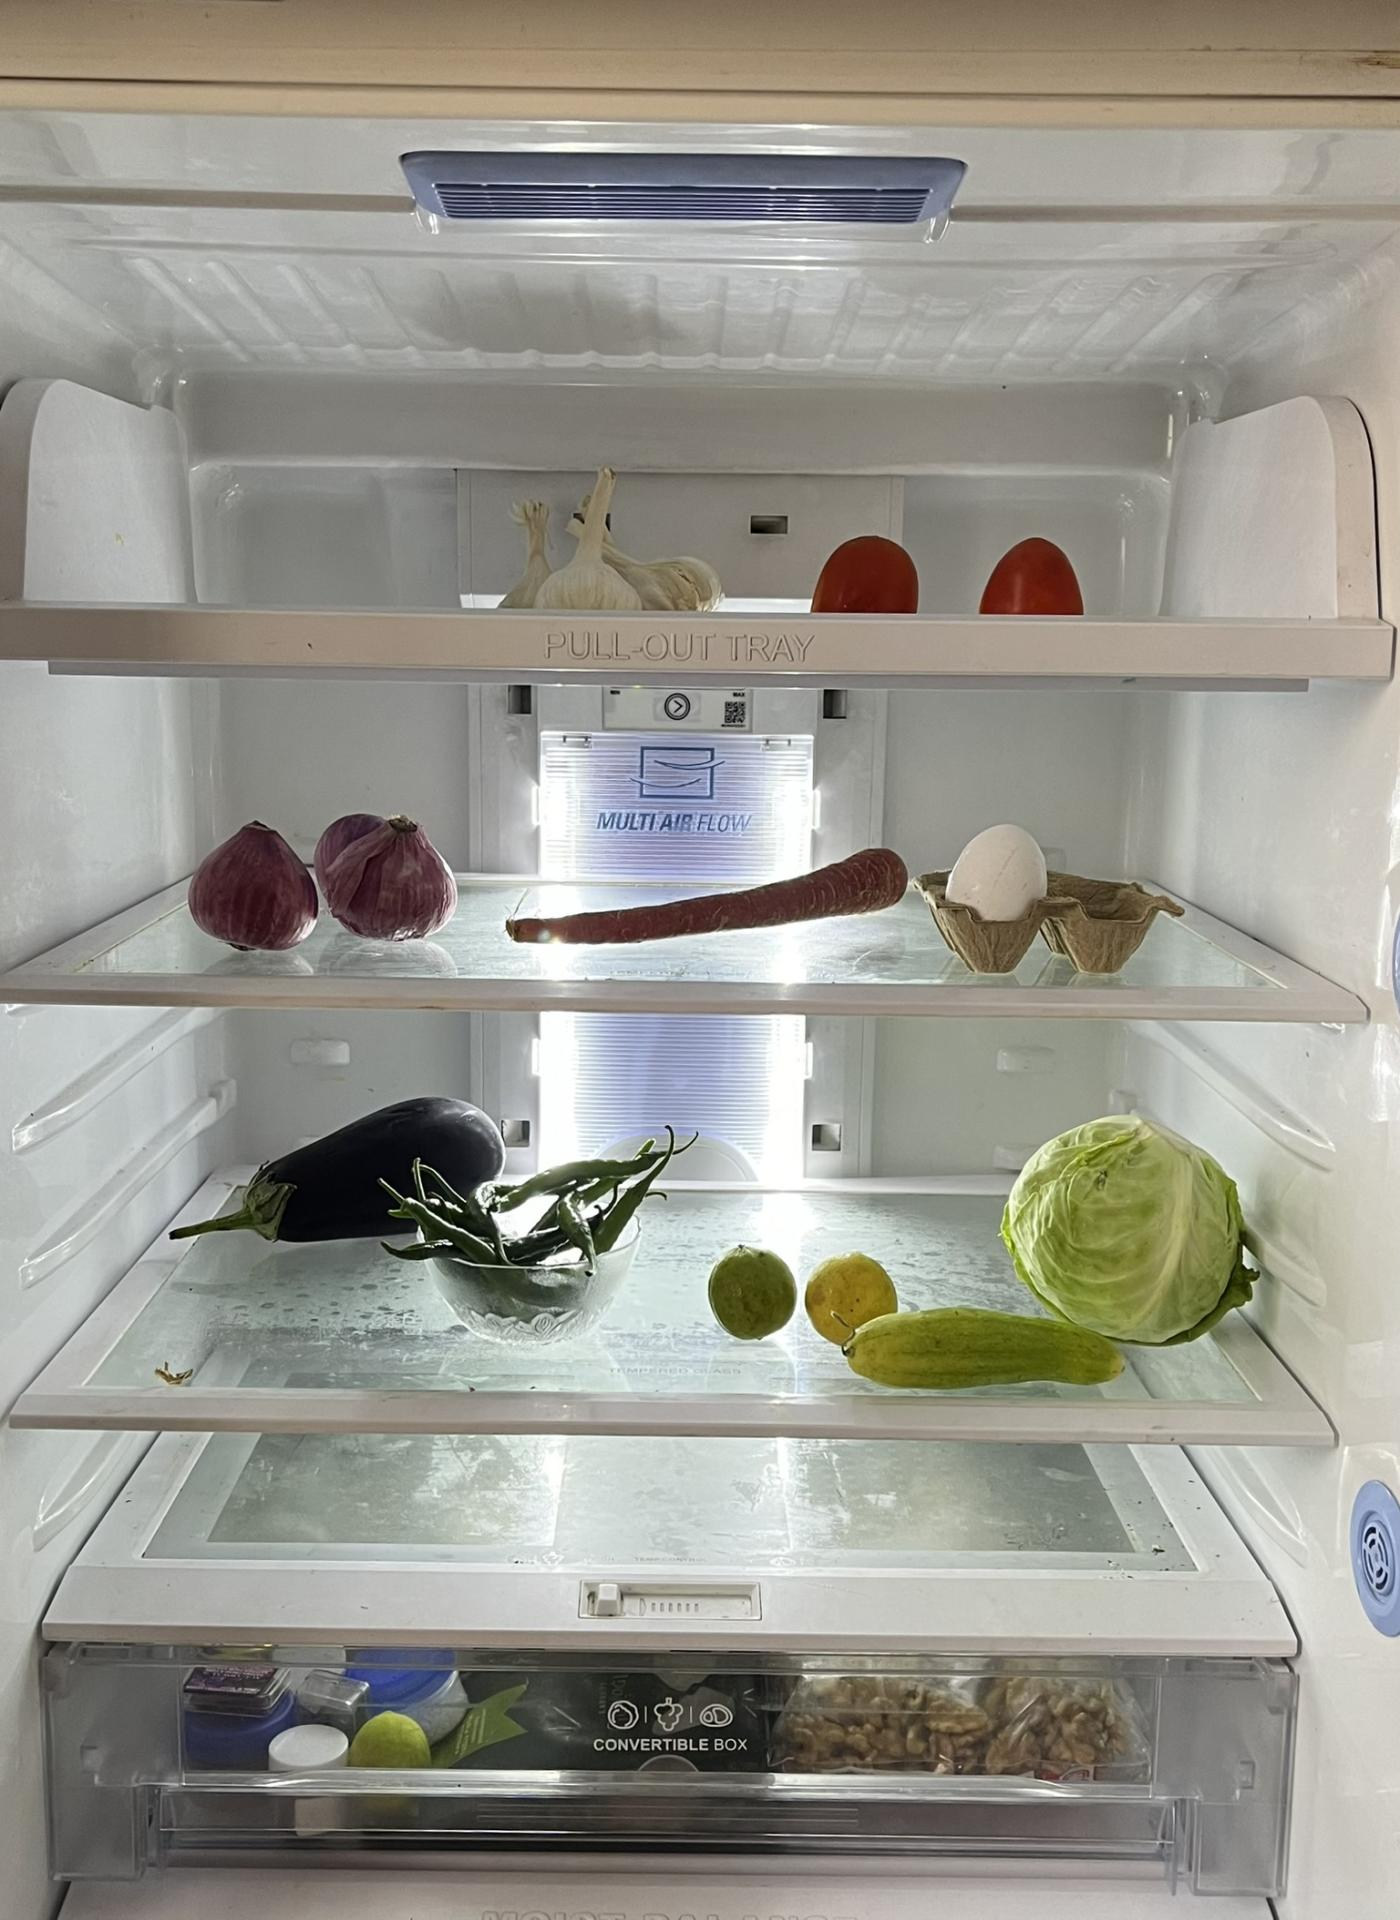brinjal: (170, 1100, 529, 1246)
cabbage: (1000, 1120, 1260, 1346)
carrots: (516, 839, 918, 941)
chillies: (386, 1158, 662, 1325)
cucumber: (819, 1297, 1141, 1383)
egg: (948, 824, 1051, 926)
garlic: (505, 462, 717, 613)
lemon: (705, 1233, 889, 1343)
onion: (319, 809, 465, 945), (185, 814, 316, 951)
tomato: (810, 529, 920, 613), (983, 537, 1090, 619)
